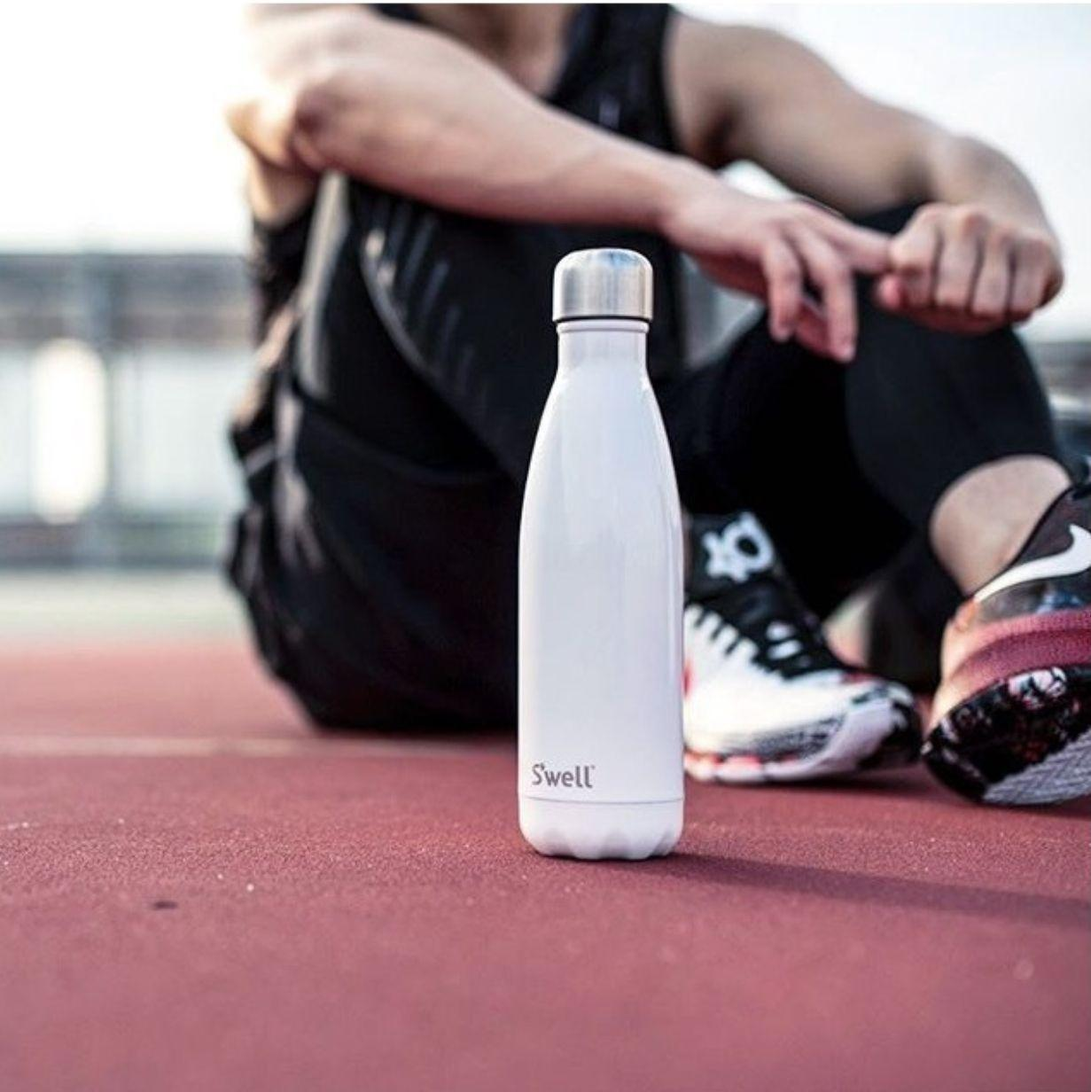gym bottle: (513, 248, 695, 865)
